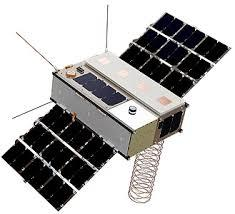antenna: (126, 137, 166, 206), (14, 30, 58, 71), (11, 99, 53, 122), (103, 4, 111, 52)
body: (48, 50, 189, 160)
solar: (3, 102, 117, 212), (117, 11, 233, 99), (72, 70, 129, 109), (157, 109, 185, 140)
